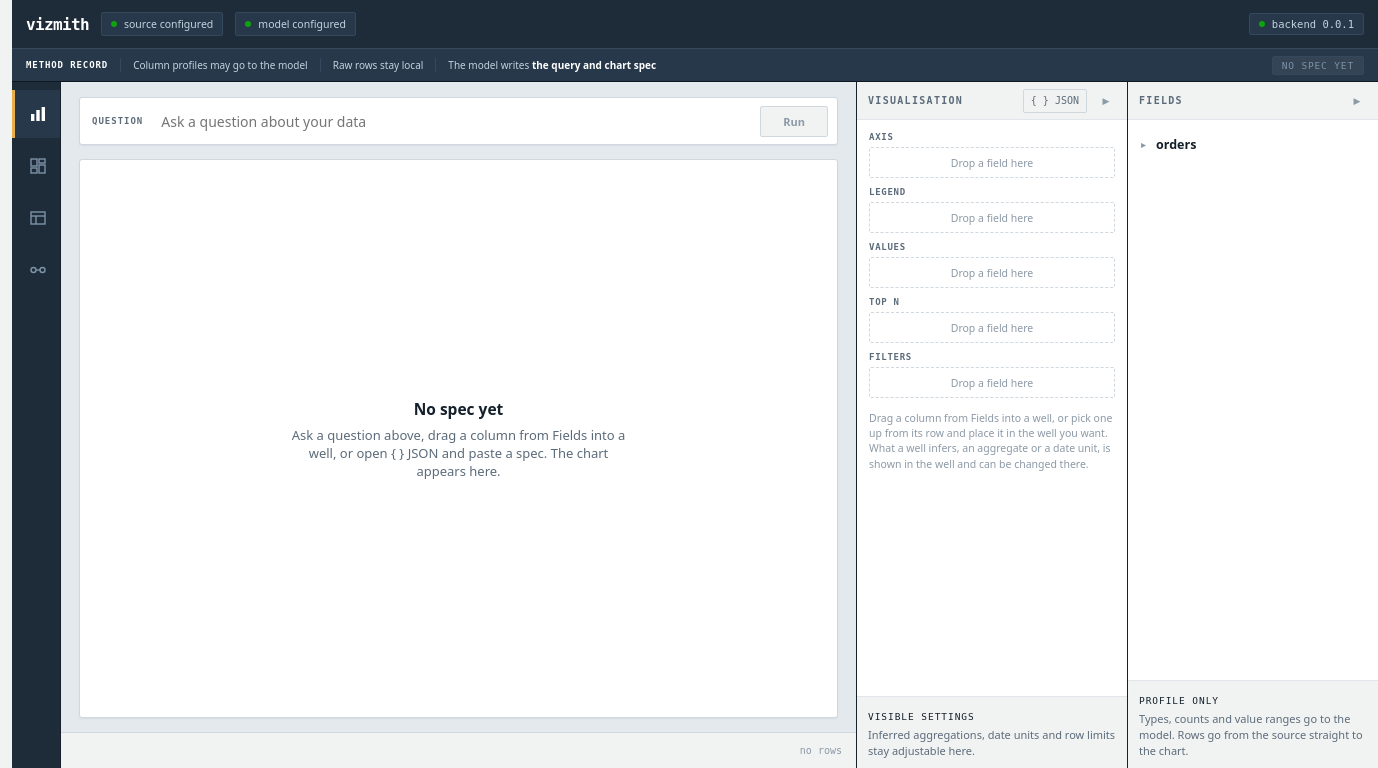
a question in flight › shows the refusal an event carried, though the response was a 200
Expected: the button "{ } JSON" is shown, [1023,88,1087,112]
Expected: the button "▸ orders" is shown, [1135,129,1371,160]
In the field with placeholder "Ask a question about your data": (452, 121) [154,108,749,134], type "revenue by country"
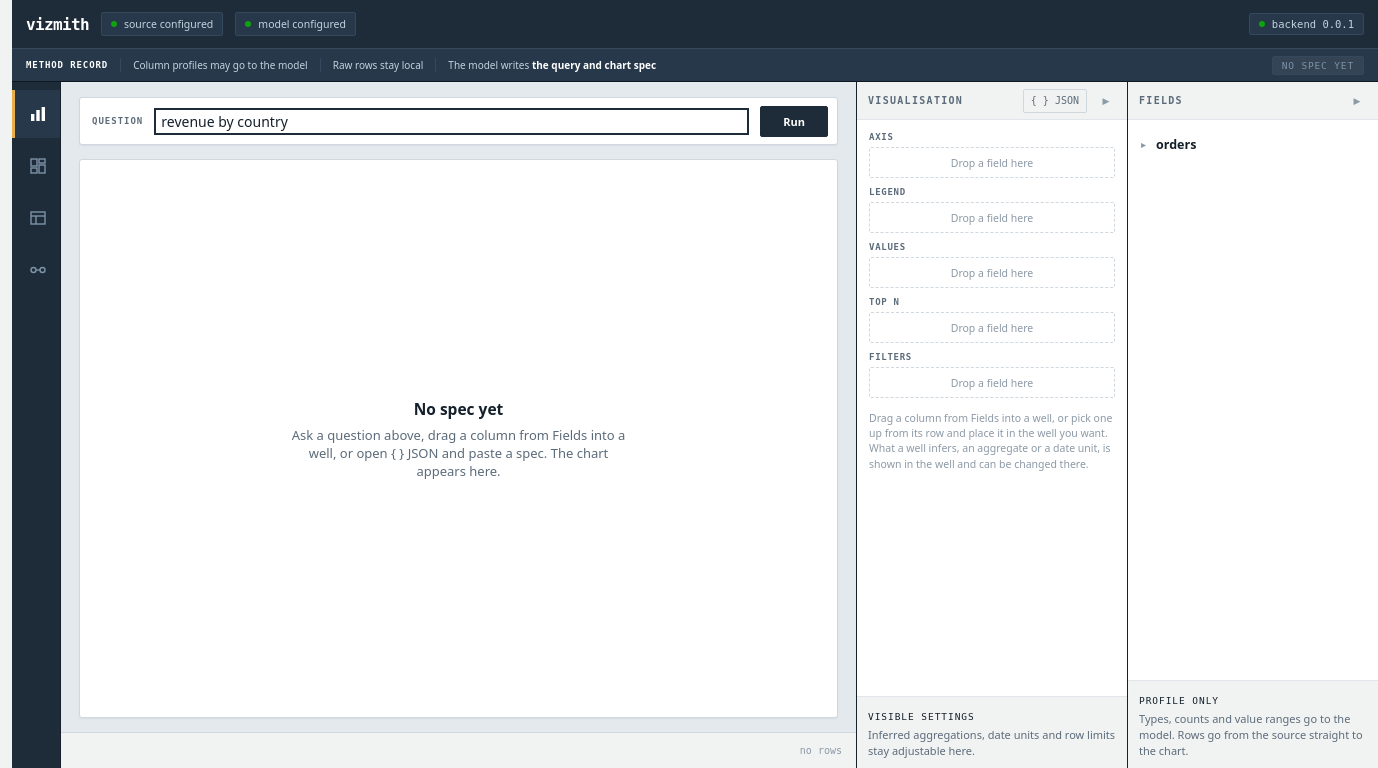
Press Enter
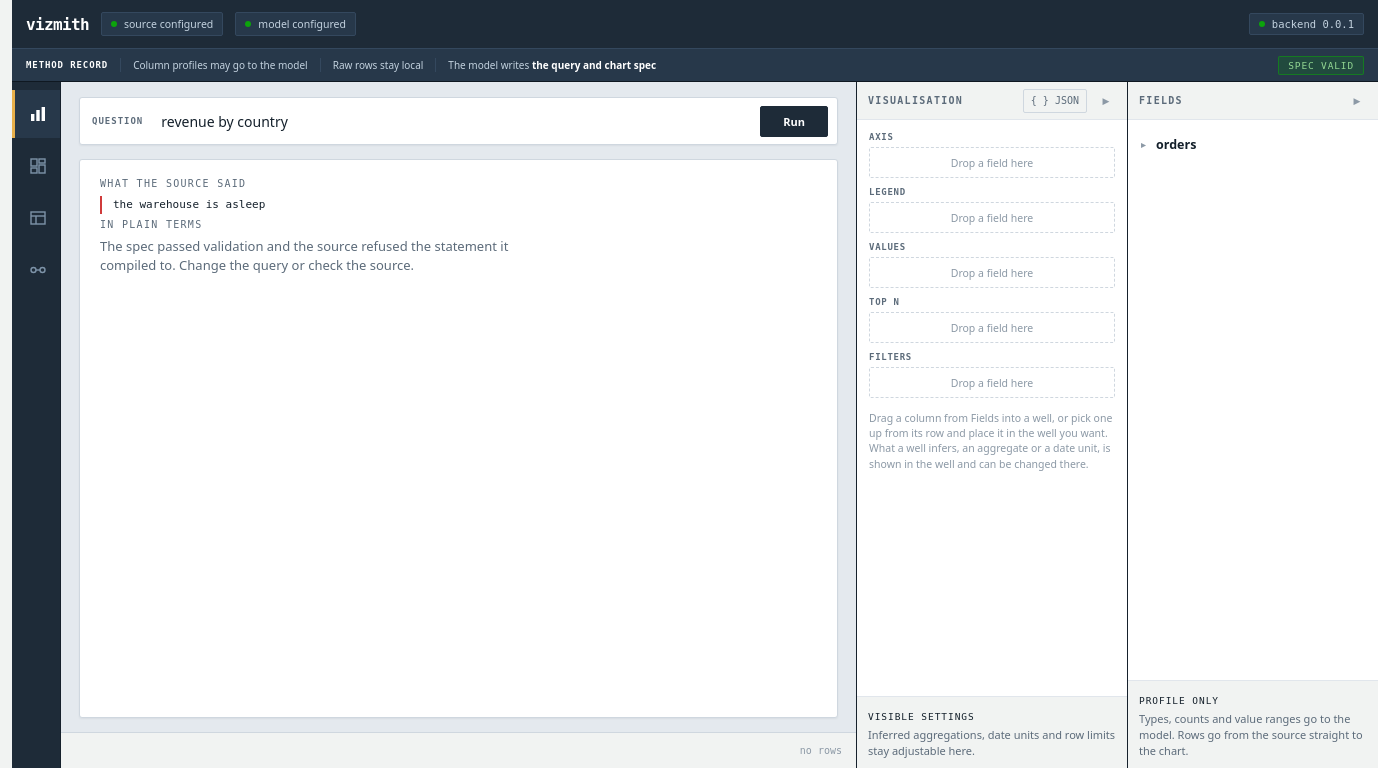
Expected: the text "What the source said" is shown, [100,178,246,189]
Expected: the list item "the warehouse is asleep" is shown, [100,196,817,214]
